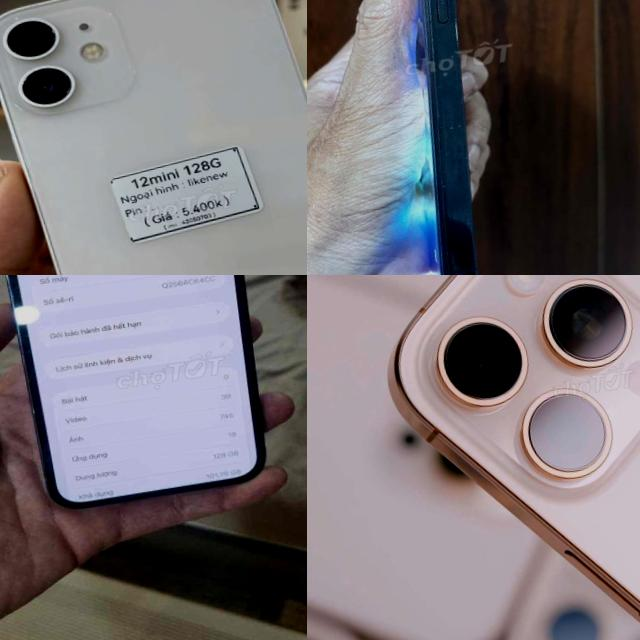scratch: (429, 104, 496, 212), (413, 0, 472, 43)
